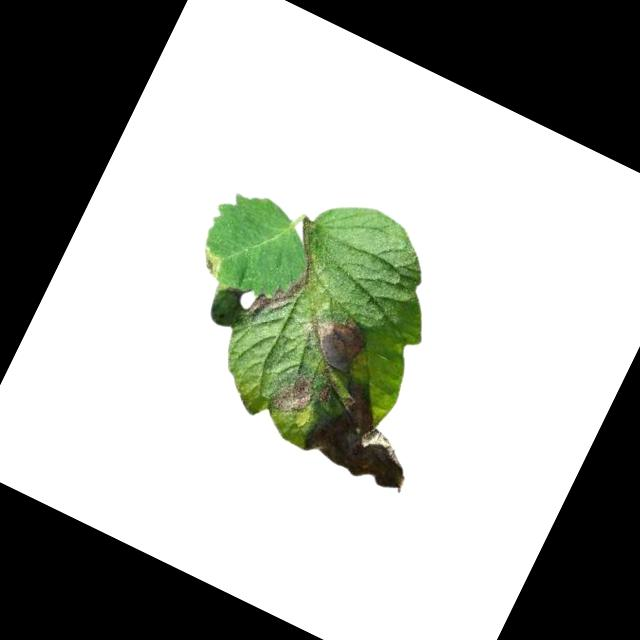Late_blight: (299, 370, 437, 500), (248, 239, 318, 326), (296, 306, 372, 381), (263, 363, 320, 424), (194, 246, 228, 279)
